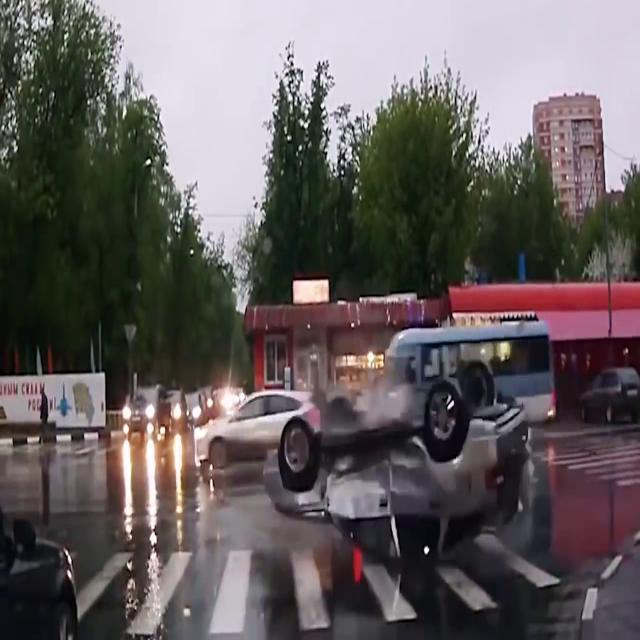accident: (264, 364, 528, 564)
non-accident: (122, 384, 218, 438)
